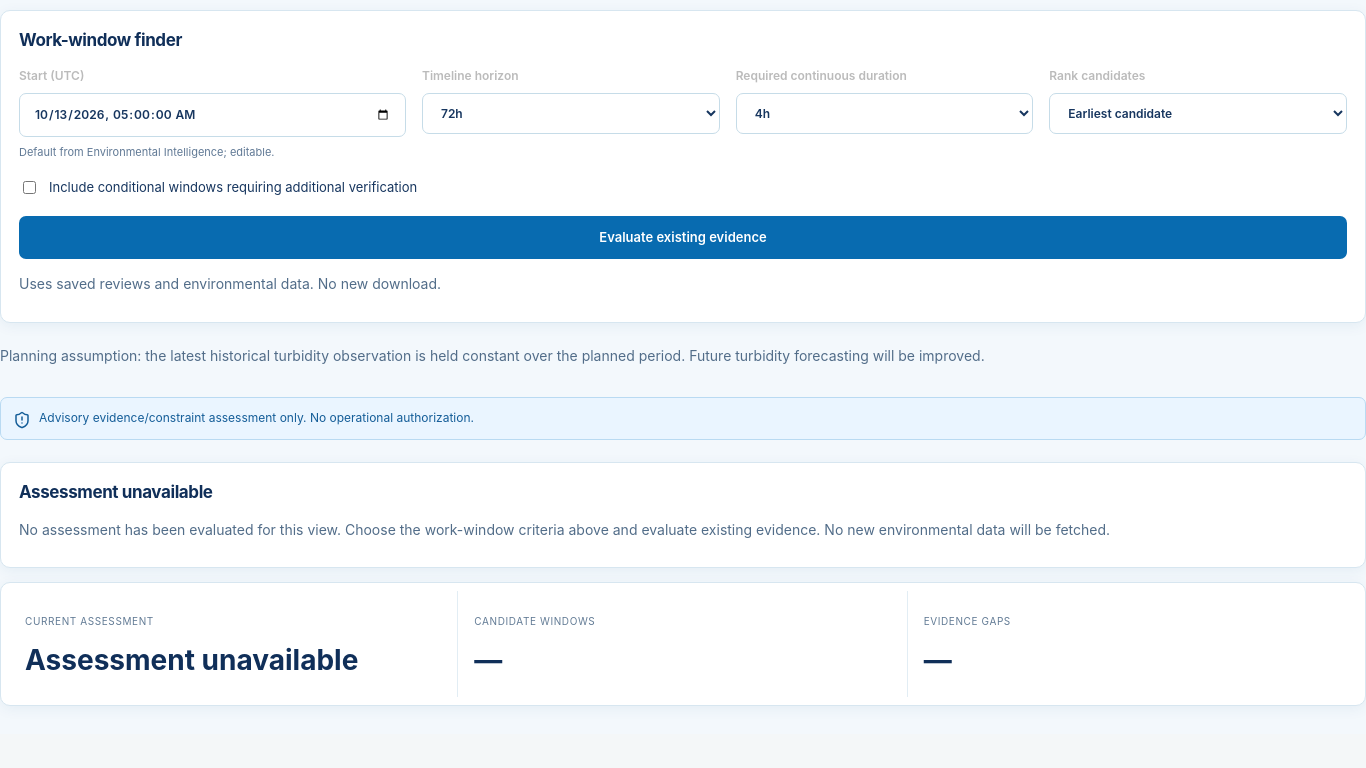
Test: historical planning assumption is automatic and disclosed without a mode switch
Click the button "Evaluate existing evidence": (683, 237) [19,216,1347,259]
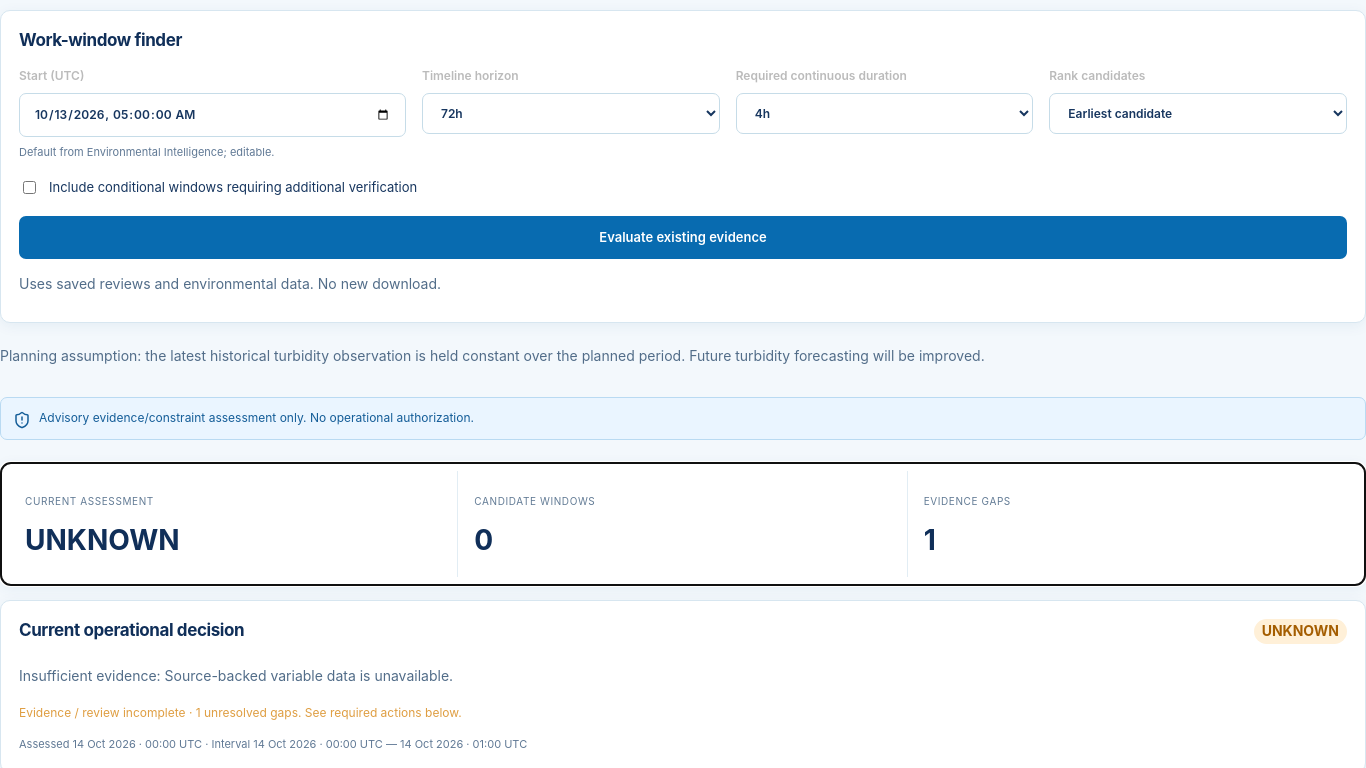
Check: the text "historical turbidity observation is held constant" is shown, box [0,347,985,364]
Check: the heading "Current operational decision" is shown, box [19,620,244,640]
